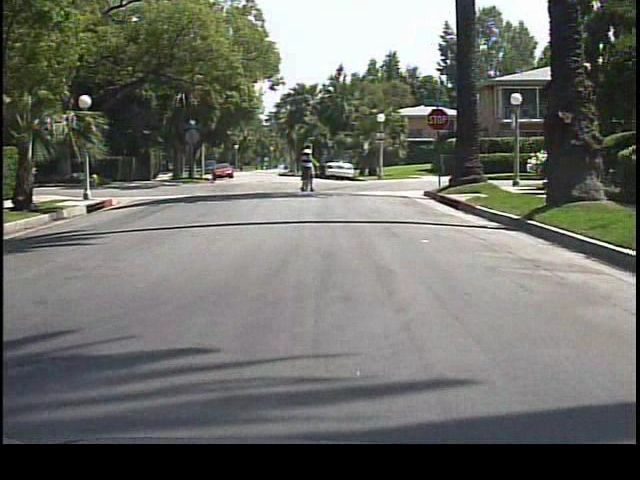person: (295, 145, 316, 194)
